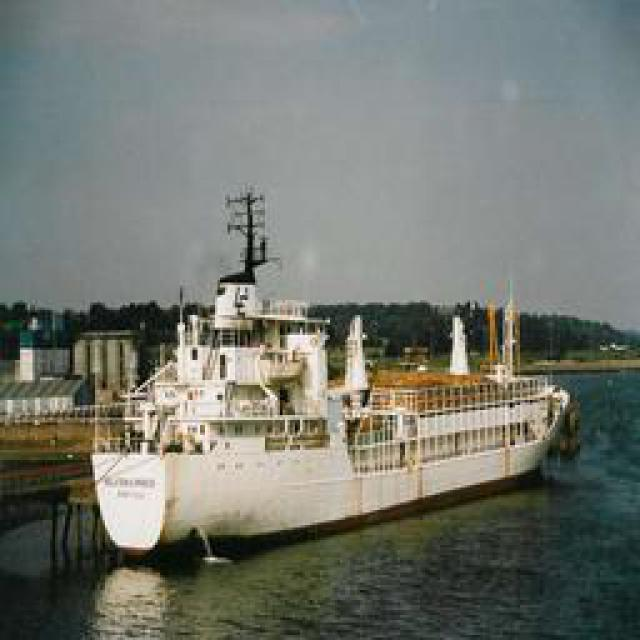Ship: (81, 182, 571, 570)
